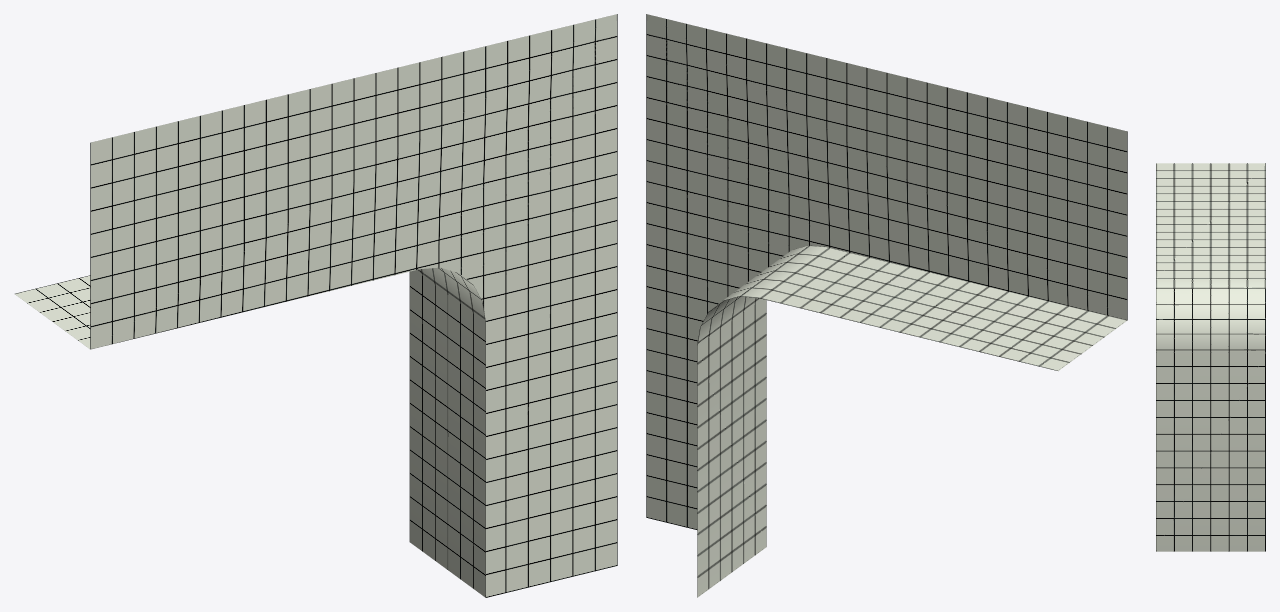
The model's file is Tunnel_entrance.fbx.
3 renders of one model, left to right at view 1: azimuth 30°, elevation 25°; view 2: azimuth 150°, elevation 25°; view 3: azimuth 270°, elevation 25°, orthographic. The views are drawn at different scales.
Visible parts, largest first — view 1: Tunnel_entrance; view 2: Tunnel_entrance; view 3: Tunnel_entrance.
Boxes of the visible parts, box(x1,y1,x2,y2) form: Tunnel_entrance: box(15, 14, 617, 597); Tunnel_entrance: box(646, 14, 1127, 597); Tunnel_entrance: box(1156, 163, 1265, 551).
Size of the model in its own units: 400 by 400 by 100.
